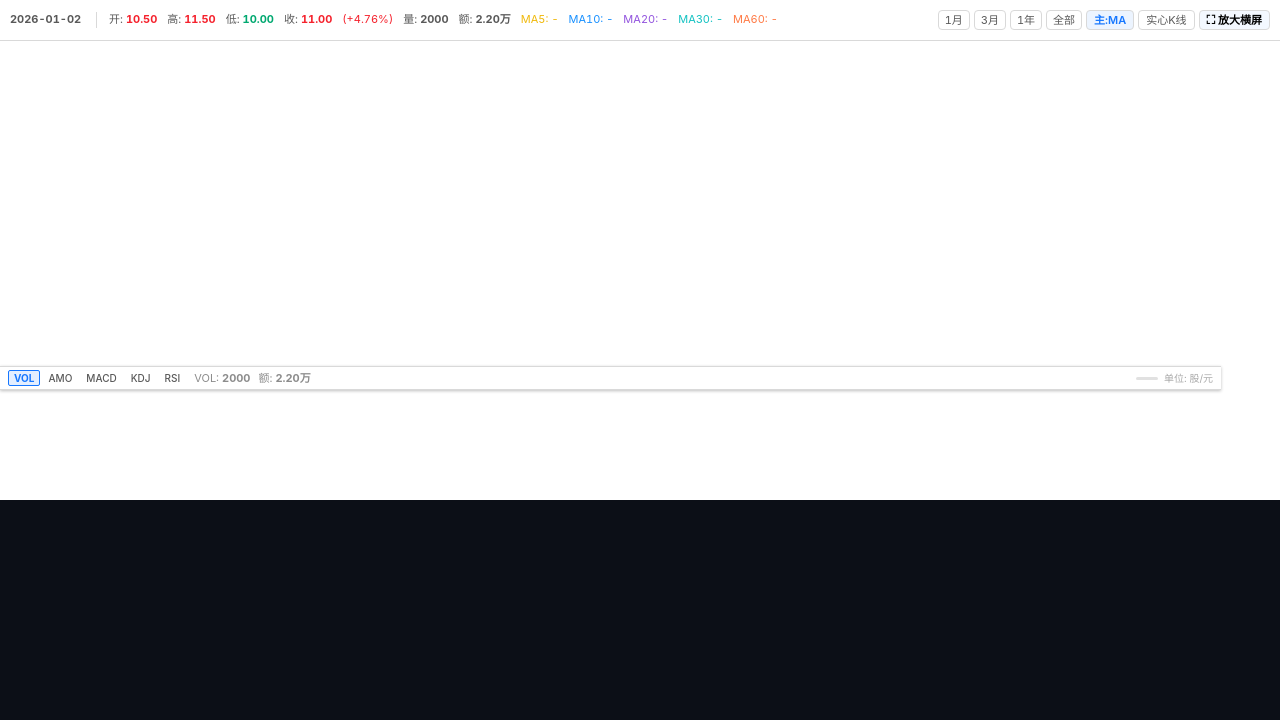
KlineChart › switches sub-indicators between VOL, MACD, KDJ, and RSI
Check: the text "VOL: 2000" is shown, box left=194, top=370, right=250, bottom=386
Check: the text "额: 2.20万" is shown 2 times, box left=459, top=12, right=511, bottom=28; left=258, top=370, right=311, bottom=386
// Switch to MACD
What coordinates should you click on to do the following:
click the button "MACD"
I would click on:
 (102, 378)
Its box is left=80, top=370, right=123, bottom=386.
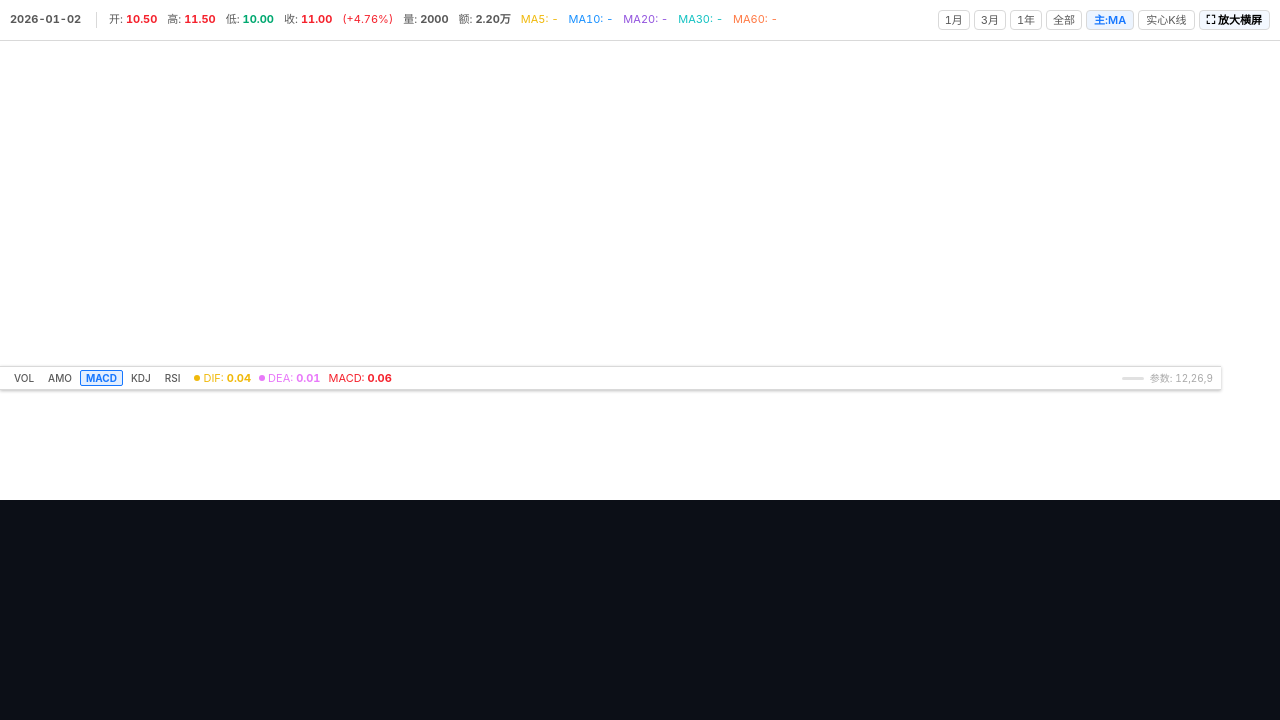
Check: the text "DIF: 0.04" is shown, box left=194, top=370, right=251, bottom=386
Check: the text "DEA: 0.01" is shown, box left=259, top=370, right=320, bottom=386
Check: the text "参数: 12,26,9" is shown, box left=1150, top=370, right=1213, bottom=386
// Switch to KDJ
What coordinates should you click on to do the following:
click the button "KDJ"
I would click on:
 (141, 378)
Its box is left=125, top=370, right=157, bottom=386.
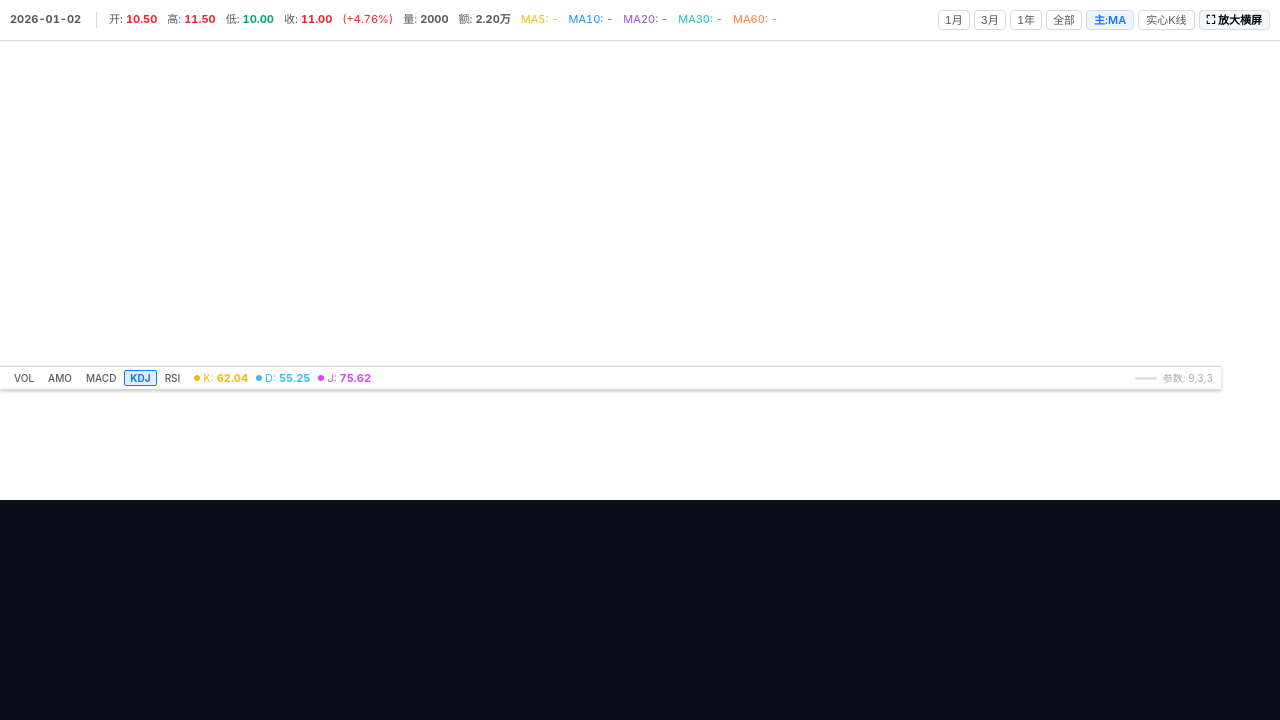
Check: the text "K: 62.04" is shown, box left=194, top=370, right=248, bottom=386
Check: the text "D: 55.25" is shown, box left=256, top=370, right=310, bottom=386
Check: the text "J: 75.62" is shown, box left=318, top=370, right=371, bottom=386
// Switch to RSI
What coordinates should you click on to do the following:
click the button "RSI"
I would click on:
 (172, 378)
Its box is left=159, top=370, right=186, bottom=386.
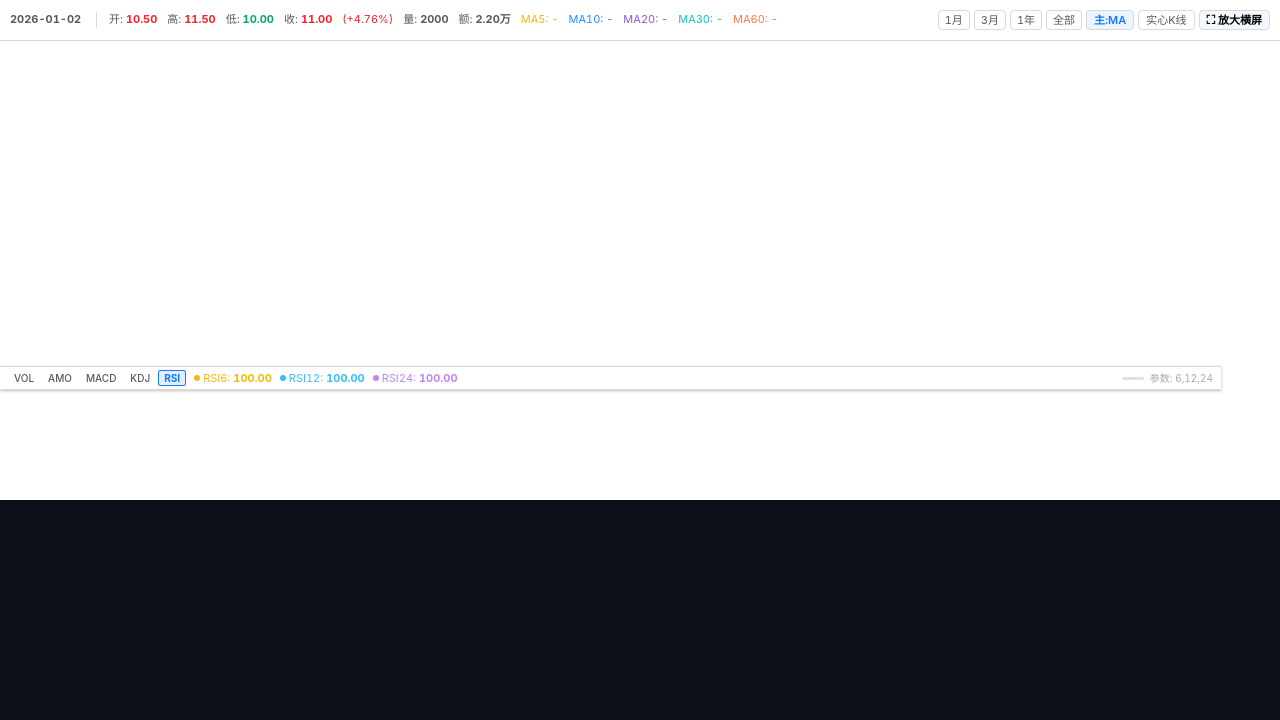
Check: the text "RSI6: 100.00" is shown, box left=194, top=370, right=272, bottom=386
Check: the text "RSI12: 100.00" is shown, box left=280, top=370, right=365, bottom=386
Check: the text "RSI24: 100.00" is shown, box left=373, top=370, right=458, bottom=386
// Switch to AMO (成交额)
What coordinates should you click on to do the following:
click the button "AMO"
I would click on:
 (60, 378)
Its box is left=42, top=370, right=78, bottom=386.
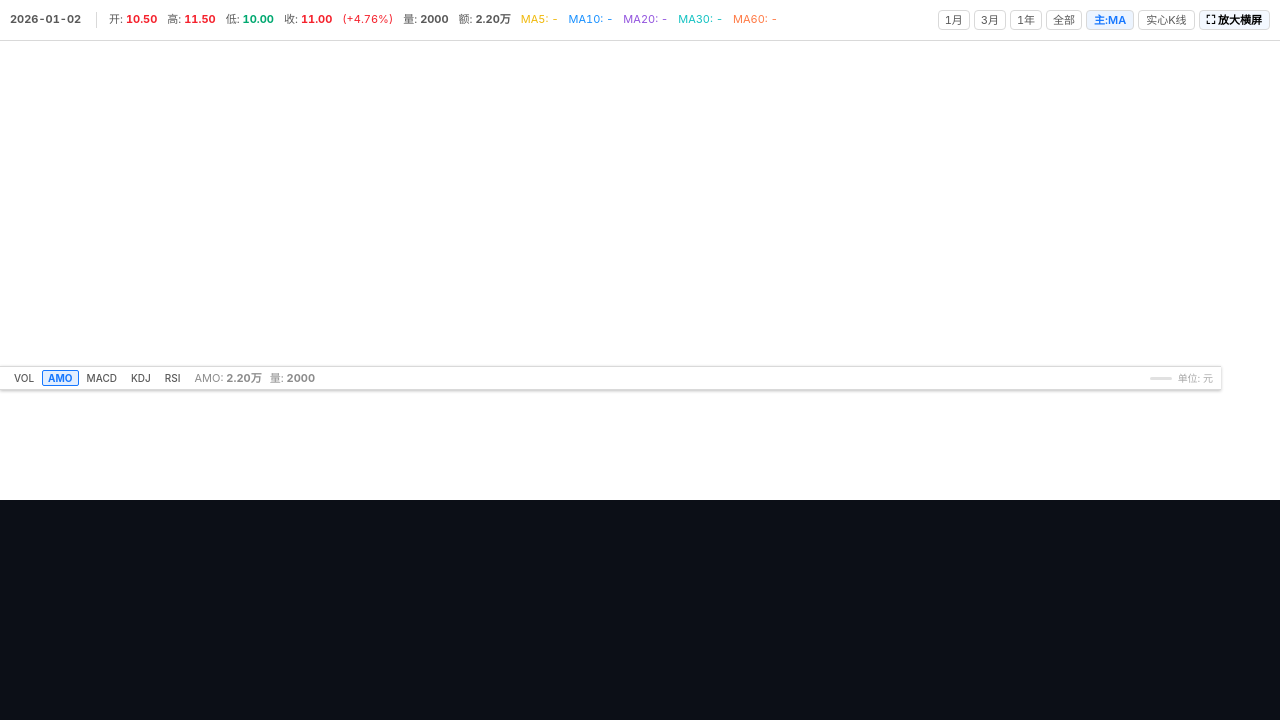
Check: the text "AMO: 2.20万" is shown, box left=194, top=370, right=262, bottom=386
Check: the text "单位: 元" is shown, box left=1178, top=370, right=1213, bottom=386
// Switch back to VOL
What coordinates should you click on to do the following:
click the button "VOL"
I would click on:
 (24, 378)
Its box is left=8, top=370, right=40, bottom=386.
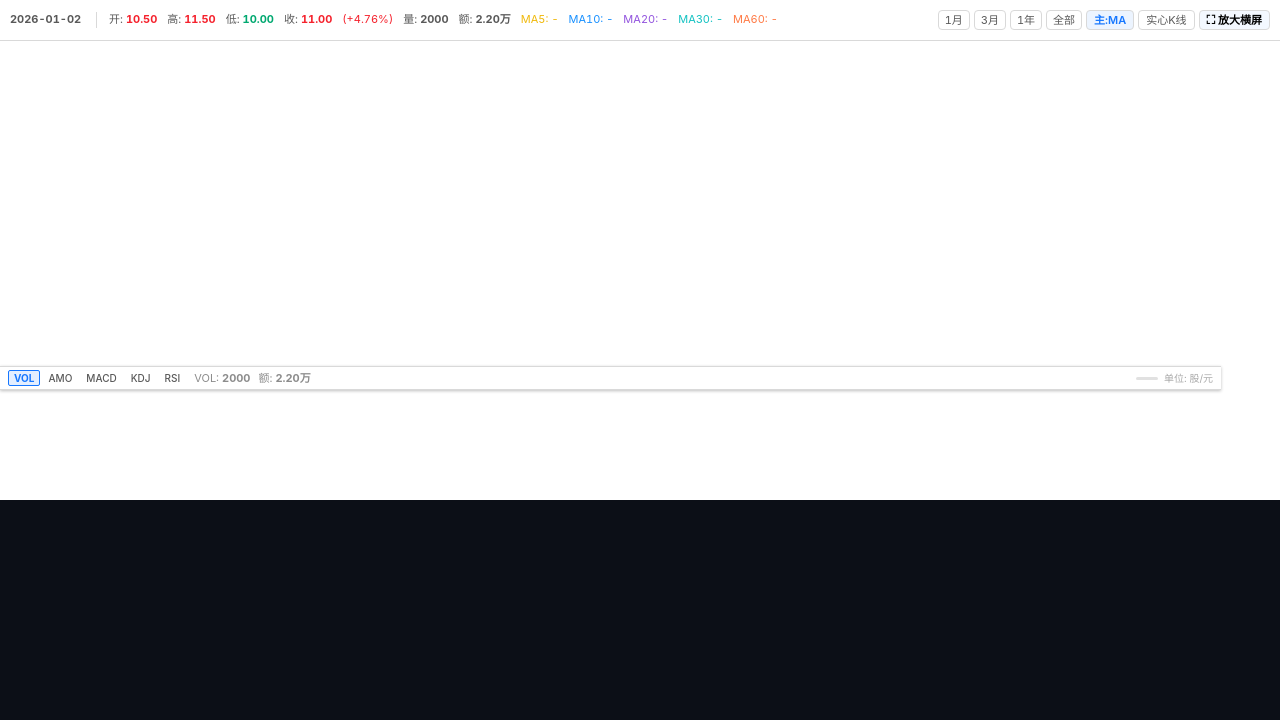
Check: the text "VOL: 2000" is shown, box left=194, top=370, right=250, bottom=386
Check: the text "单位: 股/元" is shown, box left=1164, top=370, right=1213, bottom=386
